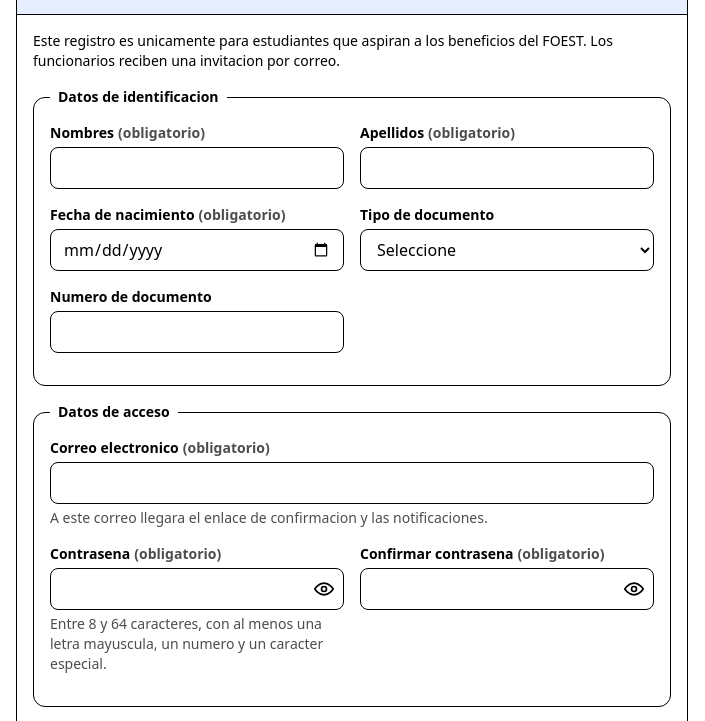
Scenario: RegistroPage › muestra el texto vigente del consentimiento y exige aceptarlo antes de registrar
Type "Ana" into the field labelled "Nombres(obligatorio)".
click(197, 168); type("Ana")  # box [50,147,344,189]
Type "Perez" into the field labelled "Apellidos(obligatorio)".
click(507, 168); type("Perez")  # box [360,147,654,189]
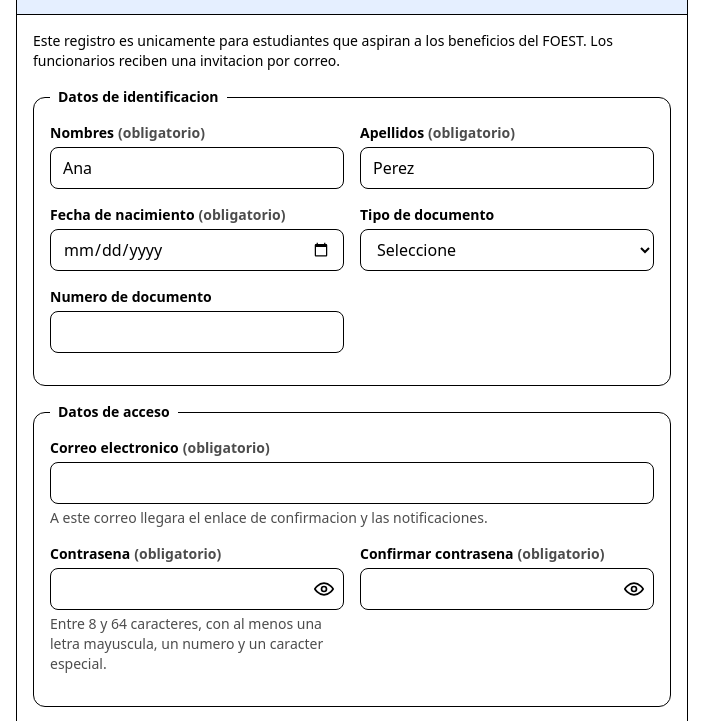
Type "2000-05-10" into the date field labelled "Fecha de nacimiento(obligatorio)".
click(197, 250); type("2000-05-10")  # box [50,229,344,271]
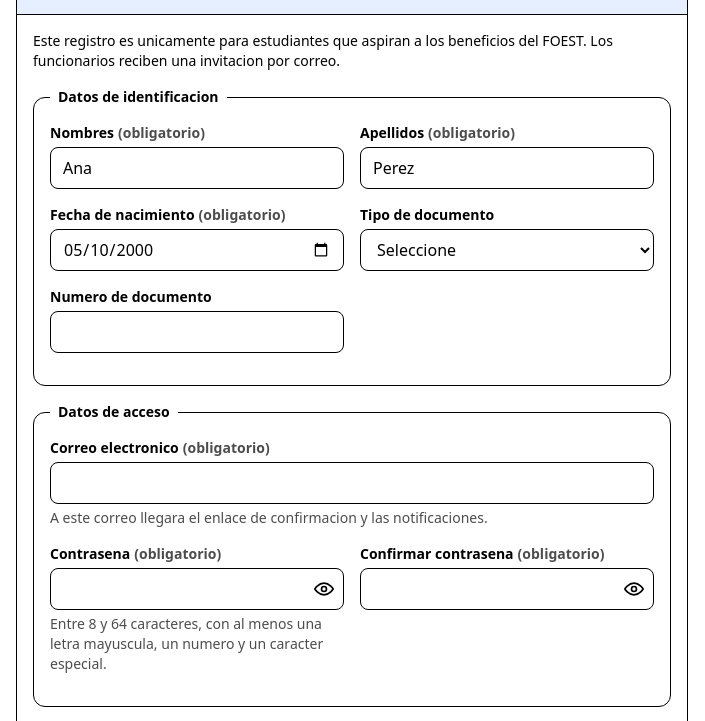
Type "ana@foest.test" into the field labelled "Correo electronico(obligatorio)".
click(352, 483); type("ana@foest.test")  # box [50,462,654,504]
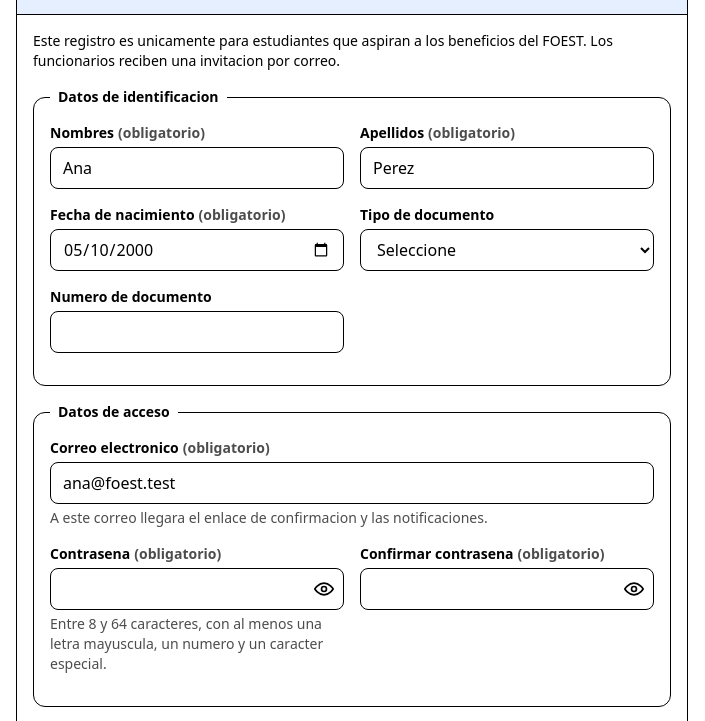
Type "Clave.Segura1" into the password field labelled "Contrasena(obligatorio)".
click(197, 589); type("Clave.Segura1")  # box [50,568,344,610]
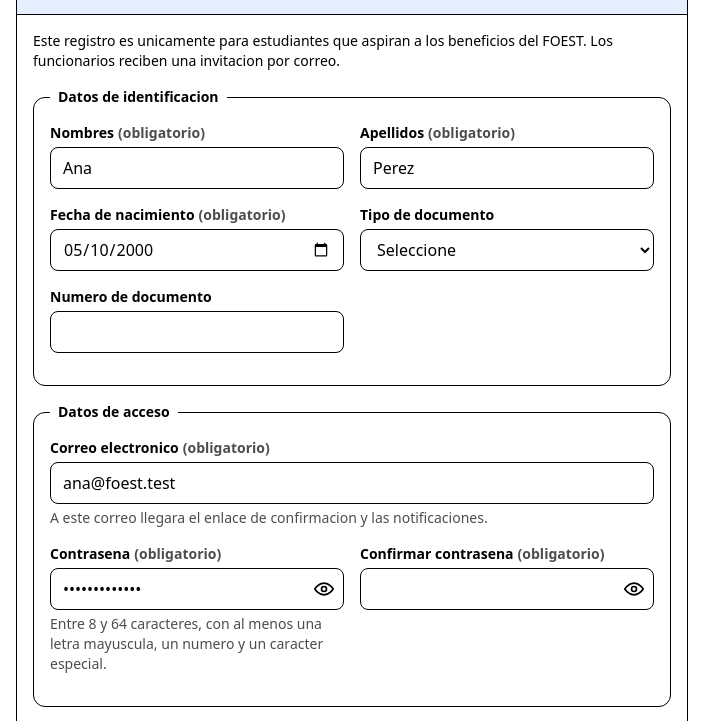
Type "Clave.Segura1" into the password field labelled "Confirmar contrasena(obligatorio)".
click(507, 589); type("Clave.Segura1")  # box [360,568,654,610]
(page scrolled)
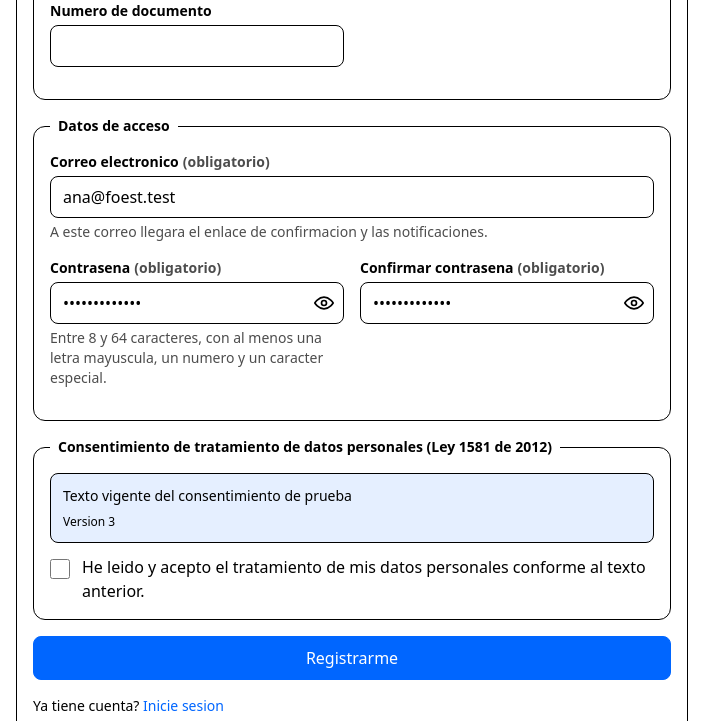
Click the button "Registrarme".
click(352, 658)  # box [33,636,671,680]
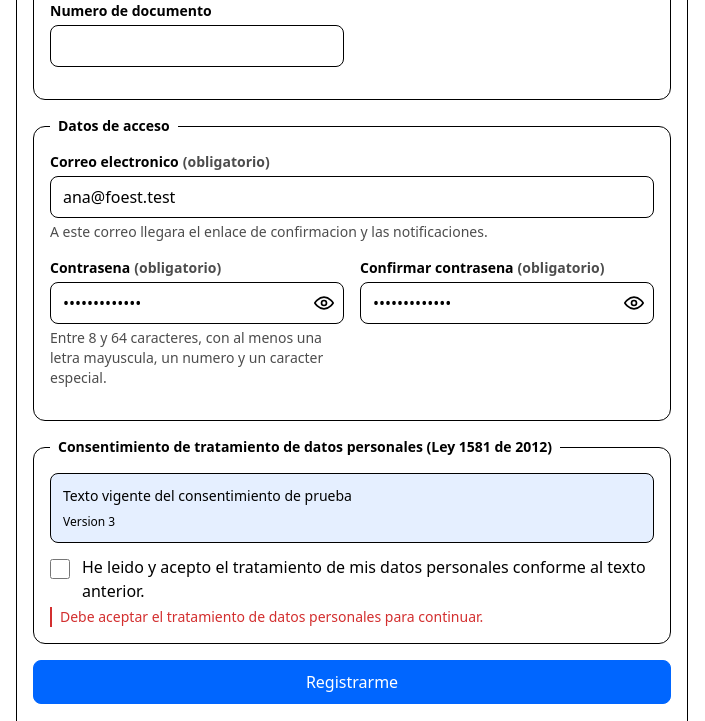
Expected: the text "Debe aceptar el tratamiento de datos personales para continuar." is shown, [50,607,654,627]
